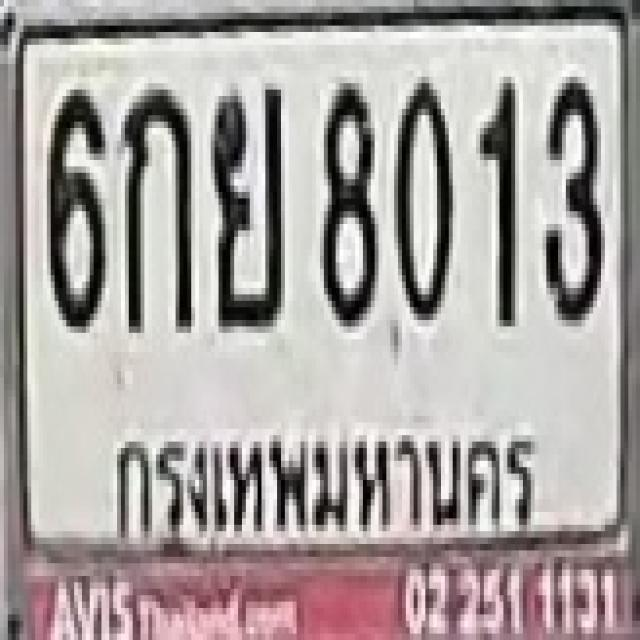-: (207, 80, 281, 323), (121, 84, 191, 326)
0: (390, 76, 449, 314)
1: (476, 77, 511, 320)
3: (539, 70, 601, 320)
6: (43, 84, 101, 326)
8: (320, 77, 375, 320)
BKK: (93, 406, 549, 560)
